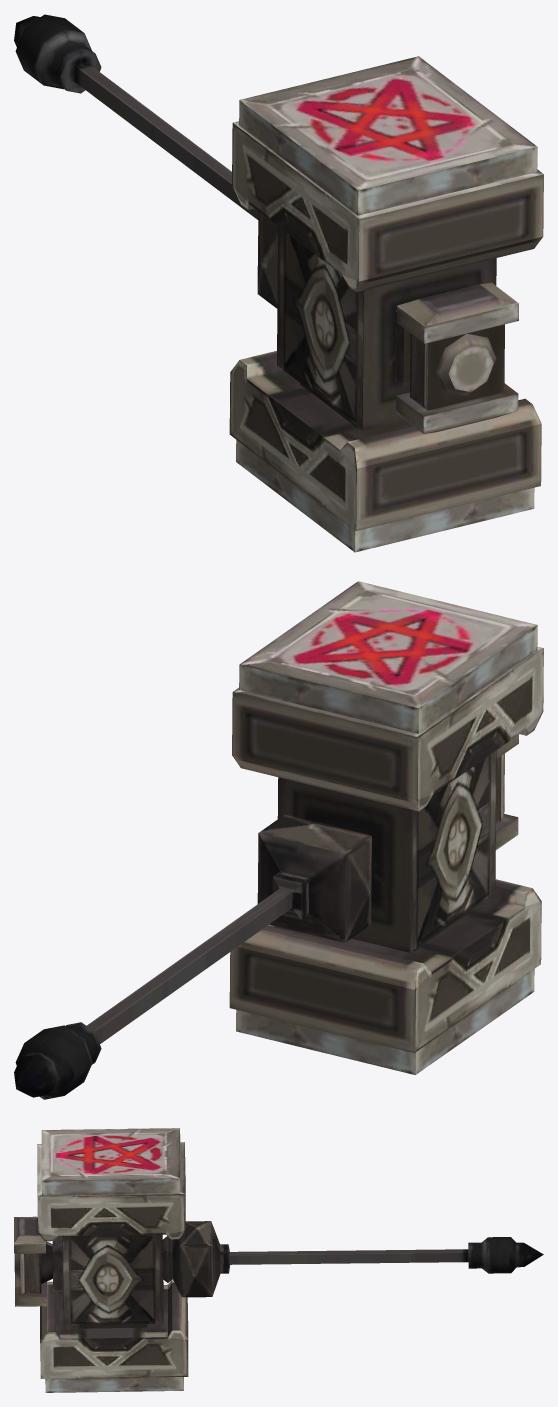
The model's file is cuizi.fbx.
3 renders of one model, top to bottom at view 1: azimuth 30°, elevation 25°; view 2: azimuth 150°, elevation 25°; view 3: azimuth 270°, elevation 25°, orthographic. The views are drawn at different scales.
Visible parts, largest first — view 1: cuizi; view 2: cuizi; view 3: cuizi.
Boxes of the visible parts, <box> form: cuizi: <box>14,14,543,552</box>; cuizi: <box>14,581,543,1099</box>; cuizi: <box>14,1128,543,1392</box>.
Bounding box in the file's own units: 0.0538 × 0.1023 × 0.2298.
